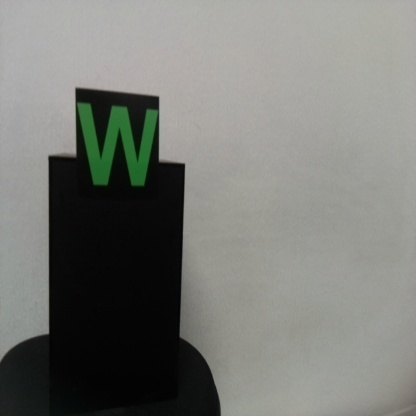id_12: (74, 88, 162, 208)
